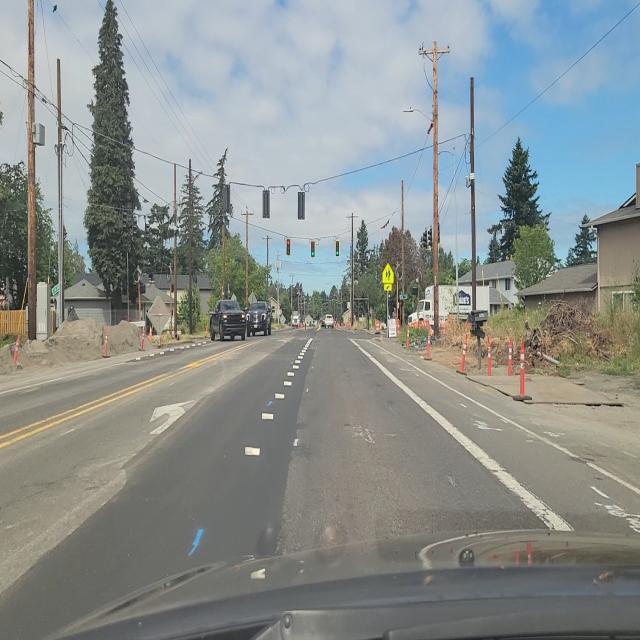car: (208, 299, 248, 342), (245, 301, 272, 337), (322, 313, 334, 329), (291, 312, 301, 329)
crosswalk-sign: (382, 263, 394, 289)
delineator: (518, 338, 526, 399), (458, 332, 468, 375), (507, 335, 513, 378), (13, 335, 21, 366), (487, 335, 492, 376), (426, 326, 432, 359), (140, 328, 146, 351), (104, 328, 108, 358), (406, 320, 410, 348), (158, 330, 162, 348), (487, 332, 491, 350), (148, 327, 152, 342), (204, 324, 208, 338)
